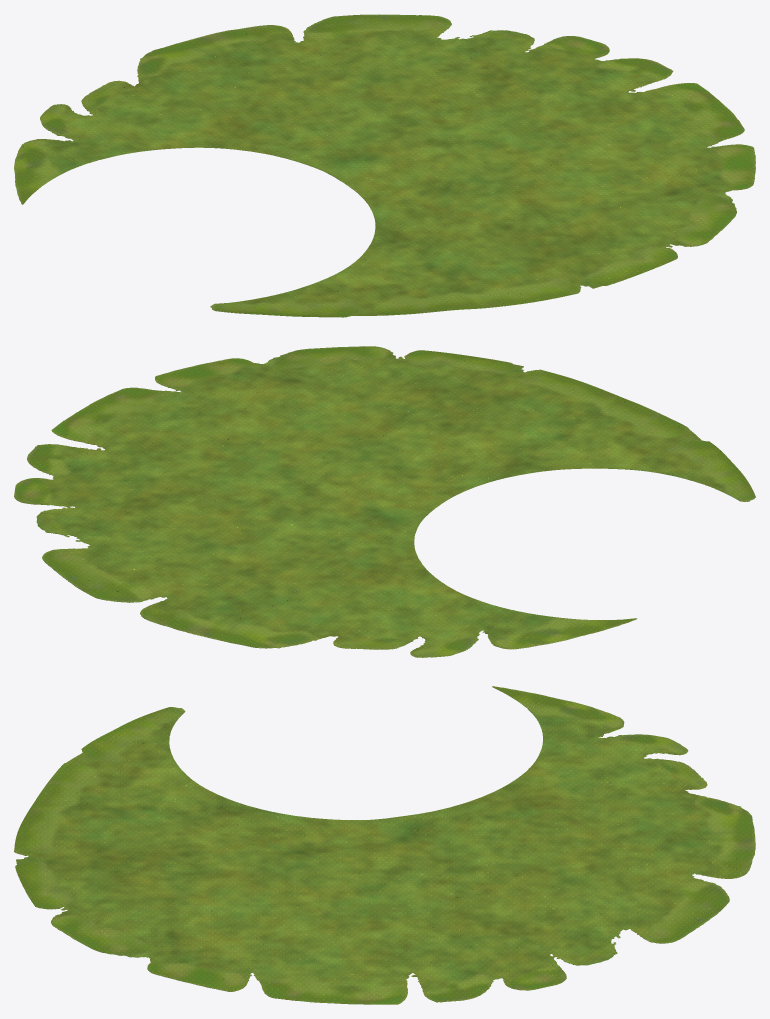
Rendered from lawn_01.glb.
3 views of the same model, one above another, from view 1: azimuth 30°, elevation 25°; view 2: azimuth 150°, elevation 25°; view 3: azimuth 270°, elevation 25° (orthographic). The views are drawn at different scales.
Parts seen in each view (by area): view 1: lawn_01.surface, lawn_01.sides; view 2: lawn_01.surface, lawn_01.sides; view 3: lawn_01.surface, lawn_01.sides.
Boxes of the visible parts, left/top/right/bottom form: lawn_01.surface: left=14, top=14, right=755, bottom=317; lawn_01.sides: left=21, top=25, right=754, bottom=317; lawn_01.surface: left=14, top=346, right=755, bottom=657; lawn_01.sides: left=16, top=347, right=755, bottom=657; lawn_01.surface: left=14, top=686, right=755, bottom=1004; lawn_01.sides: left=14, top=687, right=754, bottom=1004.
Bounding box in the file's own units: 200 × 2 × 196.
Materials: 1 (1 with a texture image).
